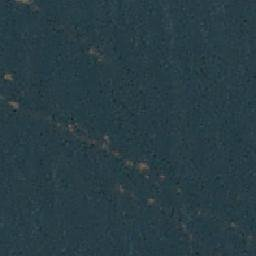debris: (96, 133, 120, 157), (126, 158, 152, 174), (63, 123, 86, 140), (144, 196, 159, 206), (8, 99, 19, 108), (2, 73, 14, 80)
